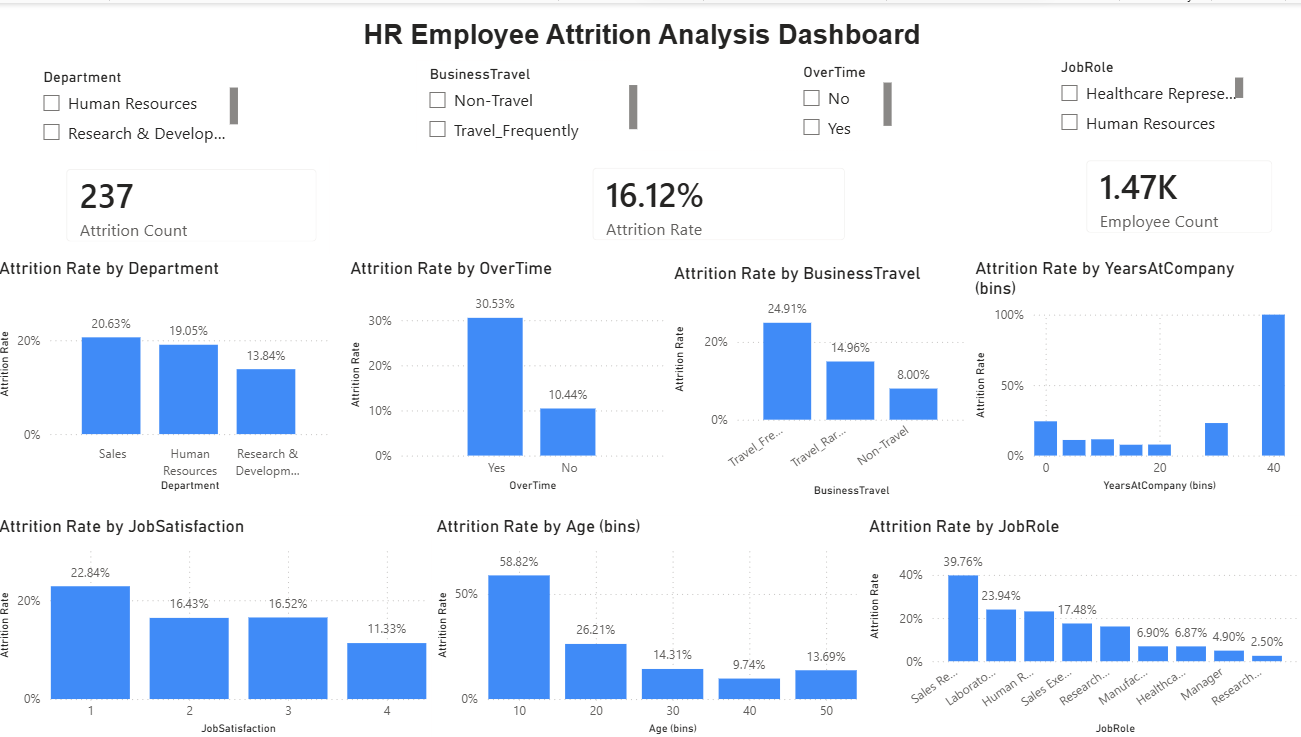

Layout of this report page (visuals, bound fields, positions):
{"tool":"powerbi","page":{"name":"Page 1","canvas":[1280,720],"ordinal":0},"visuals":[{"type":"cardVisual","fields":{"Data":["Hr_Attrition.Attrition Count"]},"box":[53.5,145.5,279.9,105.7],"z":0},{"type":"cardVisual","fields":{"Data":["Hr_Attrition.Attrition Rate"]},"box":[568.1,144.1,281.3,105.7],"z":1},{"type":"cardVisual","fields":{"Data":["Hr_Attrition.Employee Count"]},"box":[1051.1,137.2,216.8,105.7],"z":2},{"type":"clusteredColumnChart","fields":{"Category":["Hr_Attrition.Department"],"Y":["Hr_Attrition.Attrition Rate"]},"box":[0,249.7,333.4,233.3],"z":3},{"type":"clusteredColumnChart","fields":{"Category":["Hr_Attrition.OverTime"],"Y":["Hr_Attrition.Attrition Rate"]},"box":[343.1,249.7,317,233.3],"z":4},{"type":"clusteredColumnChart","fields":{"Category":["Hr_Attrition.BusinessTravel"],"Y":["Hr_Attrition.Attrition Rate"]},"box":[660,253.9,295,233.3],"z":5},{"type":"clusteredColumnChart","fields":{"Category":["Hr_Attrition.JobRole"],"Y":["Hr_Attrition.Attrition Rate"]},"box":[850.8,500.9,429.5,219.6],"z":6},{"type":"clusteredColumnChart","fields":{"Category":["Hr_Attrition.JobSatisfaction"],"Y":["Hr_Attrition.Attrition Rate"]},"box":[0,500.9,428.1,219.6],"z":7},{"type":"clusteredColumnChart","fields":{"Category":["Hr_Attrition.Age (bins)"],"Y":["Hr_Attrition.Attrition Rate"]},"box":[428.1,500.9,421.3,219.6],"z":8},{"type":"textbox","box":[0,11,1267.9,42.5],"z":10},{"type":"clusteredColumnChart","fields":{"Category":["Hr_Attrition.YearsAtCompany (bins)"],"Y":["Hr_Attrition.Attrition Rate"]},"box":[955.1,249.7,312.9,233.3],"z":11},{"type":"slicer","fields":{"Values":["Hr_Attrition.Department"]},"box":[35.7,59,208.6,85.1],"z":12},{"type":"slicer","fields":{"Values":["Hr_Attrition.JobRole"]},"box":[1030.5,49.4,196.2,87.8],"z":13},{"type":"slicer","fields":{"Values":["Hr_Attrition.OverTime"]},"box":[779.4,53.5,104.3,83.7],"z":14},{"type":"slicer","fields":{"Values":["Hr_Attrition.BusinessTravel"]},"box":[413,56.3,220.9,90.6],"z":15}]}

Visuals, with their boxes in screenshot pixels (x1, y1, x2, y2), scaled from the page's 1280x720 canvas onto the 1301x737 screenshot:
cardVisual - Hr_Attrition.Attrition Count: select_region(54, 149, 339, 257)
cardVisual - Hr_Attrition.Attrition Rate: select_region(577, 148, 863, 256)
cardVisual - Hr_Attrition.Employee Count: select_region(1068, 140, 1289, 249)
clusteredColumnChart - Hr_Attrition.Department x Hr_Attrition.Attrition Rate: select_region(0, 256, 339, 494)
clusteredColumnChart - Hr_Attrition.OverTime x Hr_Attrition.Attrition Rate: select_region(349, 256, 671, 494)
clusteredColumnChart - Hr_Attrition.BusinessTravel x Hr_Attrition.Attrition Rate: select_region(671, 260, 971, 499)
clusteredColumnChart - Hr_Attrition.JobRole x Hr_Attrition.Attrition Rate: select_region(865, 513, 1300, 736)
clusteredColumnChart - Hr_Attrition.JobSatisfaction x Hr_Attrition.Attrition Rate: select_region(0, 513, 435, 736)
clusteredColumnChart - Hr_Attrition.Age (bins) x Hr_Attrition.Attrition Rate: select_region(435, 513, 863, 736)
textbox: select_region(0, 11, 1289, 55)
clusteredColumnChart - Hr_Attrition.YearsAtCompany (bins) x Hr_Attrition.Attrition Rate: select_region(971, 256, 1289, 494)
slicer - Hr_Attrition.Department: select_region(36, 60, 248, 148)
slicer - Hr_Attrition.JobRole: select_region(1047, 51, 1247, 140)
slicer - Hr_Attrition.OverTime: select_region(792, 55, 898, 140)
slicer - Hr_Attrition.BusinessTravel: select_region(420, 58, 644, 150)
